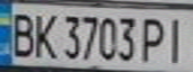0: (97, 14, 118, 62)
3: (115, 14, 142, 63), (57, 10, 81, 61)
7: (78, 11, 100, 61)
B: (6, 9, 36, 58)
I: (163, 13, 193, 64)
K: (30, 9, 57, 60)
P: (139, 14, 172, 63)
